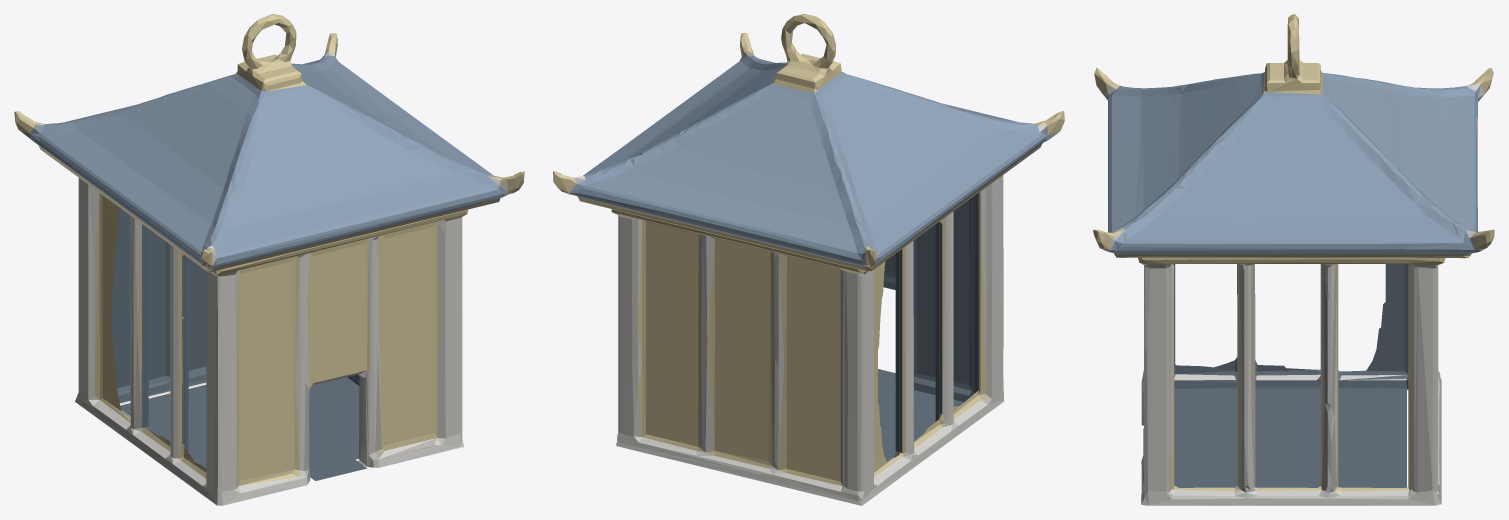
The picture shows the model from 3 angles, left to right: view 1: azimuth 30°, elevation 25°; view 2: azimuth 150°, elevation 25°; view 3: azimuth 270°, elevation 25°; orthographic projection. The views are drawn at different scales.
Visible parts, largest first — view 1: geometry_0; view 2: geometry_0; view 3: geometry_0.
Boxes of the visible parts, <box> form: geometry_0: <box>14,14,524,505</box>; geometry_0: <box>553,14,1064,505</box>; geometry_0: <box>1093,14,1494,505</box>.
Size of the model in its own units: 0.7866 by 0.9501 by 0.8121.
